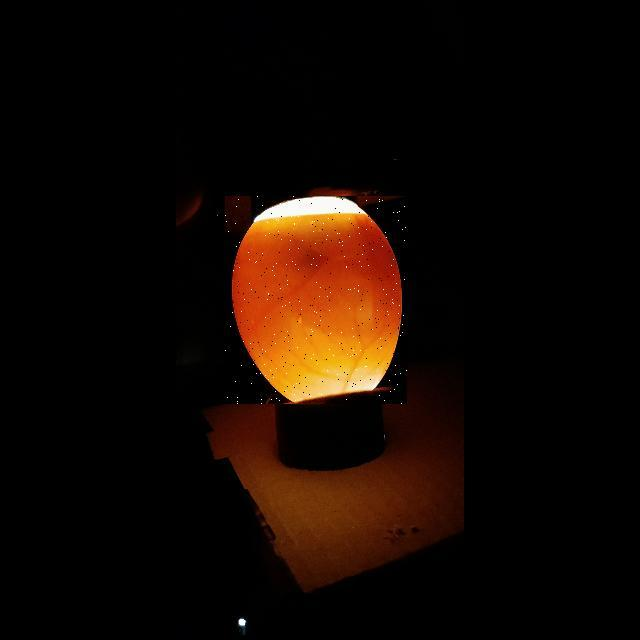Fertile: (225, 196, 407, 404)
